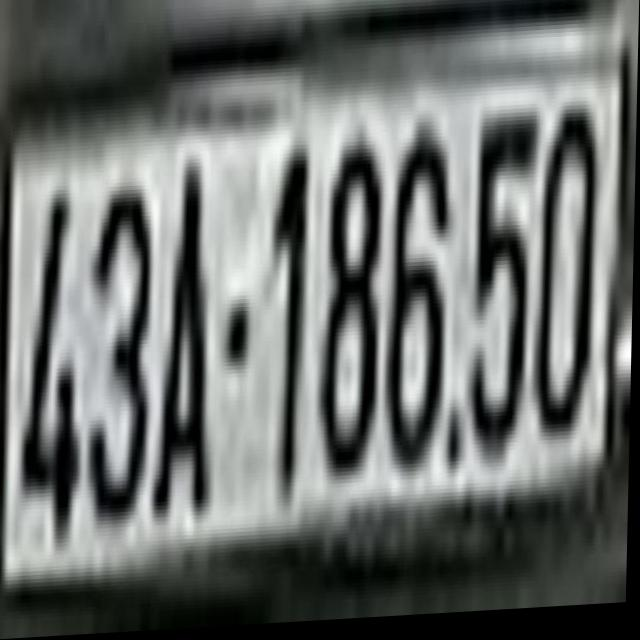0: (539, 80, 601, 452)
1: (267, 125, 312, 500)
3: (90, 167, 154, 523)
4: (19, 178, 90, 557)
5: (468, 72, 538, 467)
6: (391, 91, 456, 482)
8: (318, 125, 384, 489)
A: (155, 152, 222, 528)
